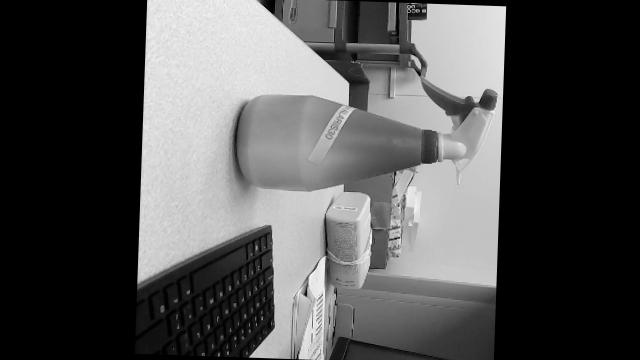AlcoholSpray: (232, 93, 494, 192)
